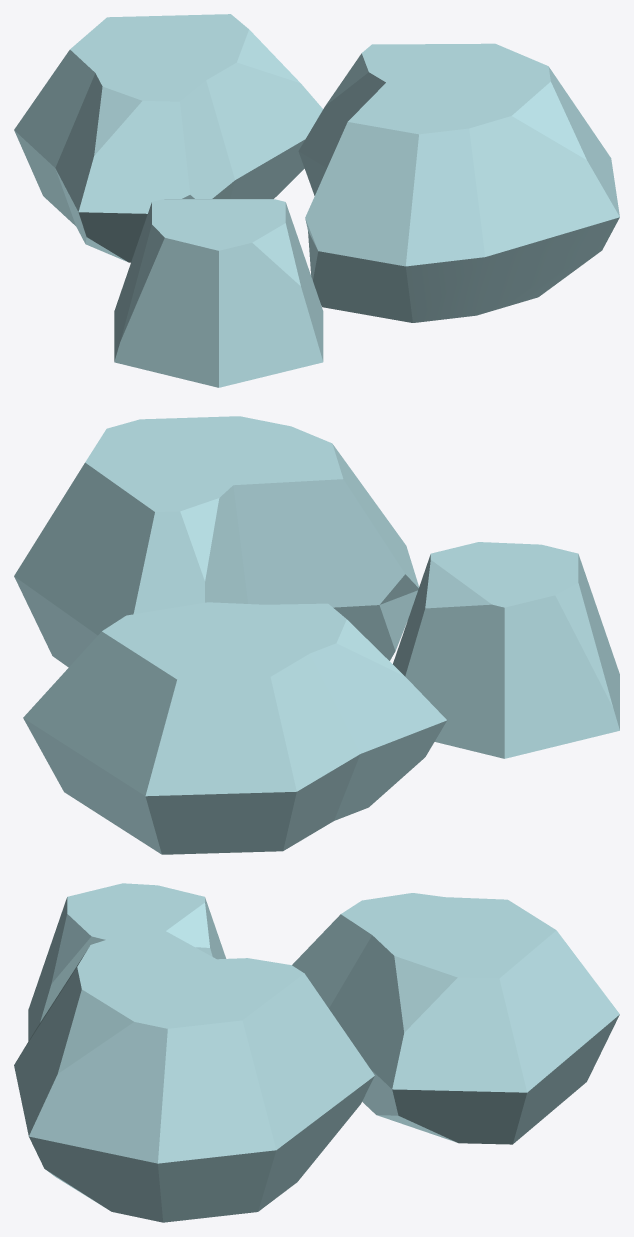
The model's file is Rocks 2.fbx.
3 renders of one model, top to bottom at view 1: azimuth 30°, elevation 25°; view 2: azimuth 150°, elevation 25°; view 3: azimuth 270°, elevation 25°, orthographic. The views are drawn at different scales.
Parts seen in each view (by area): view 1: stone_largeD, stone_largeF, stone_smallD; view 2: stone_largeF, stone_largeD, stone_smallD; view 3: stone_largeD, stone_largeF, stone_smallD.
Boxes of the visible parts, x1,y1,x2,y2 form: stone_largeD: [298, 43, 619, 322]; stone_largeF: [14, 14, 323, 262]; stone_smallD: [114, 199, 323, 387]; stone_largeF: [23, 602, 446, 854]; stone_largeD: [14, 416, 418, 667]; stone_smallD: [393, 542, 619, 758]; stone_largeD: [14, 924, 374, 1222]; stone_largeF: [292, 893, 619, 1144]; stone_smallD: [28, 883, 226, 1040].
Size of the model in its own units: 10.34 by 3.41 by 10.38.
